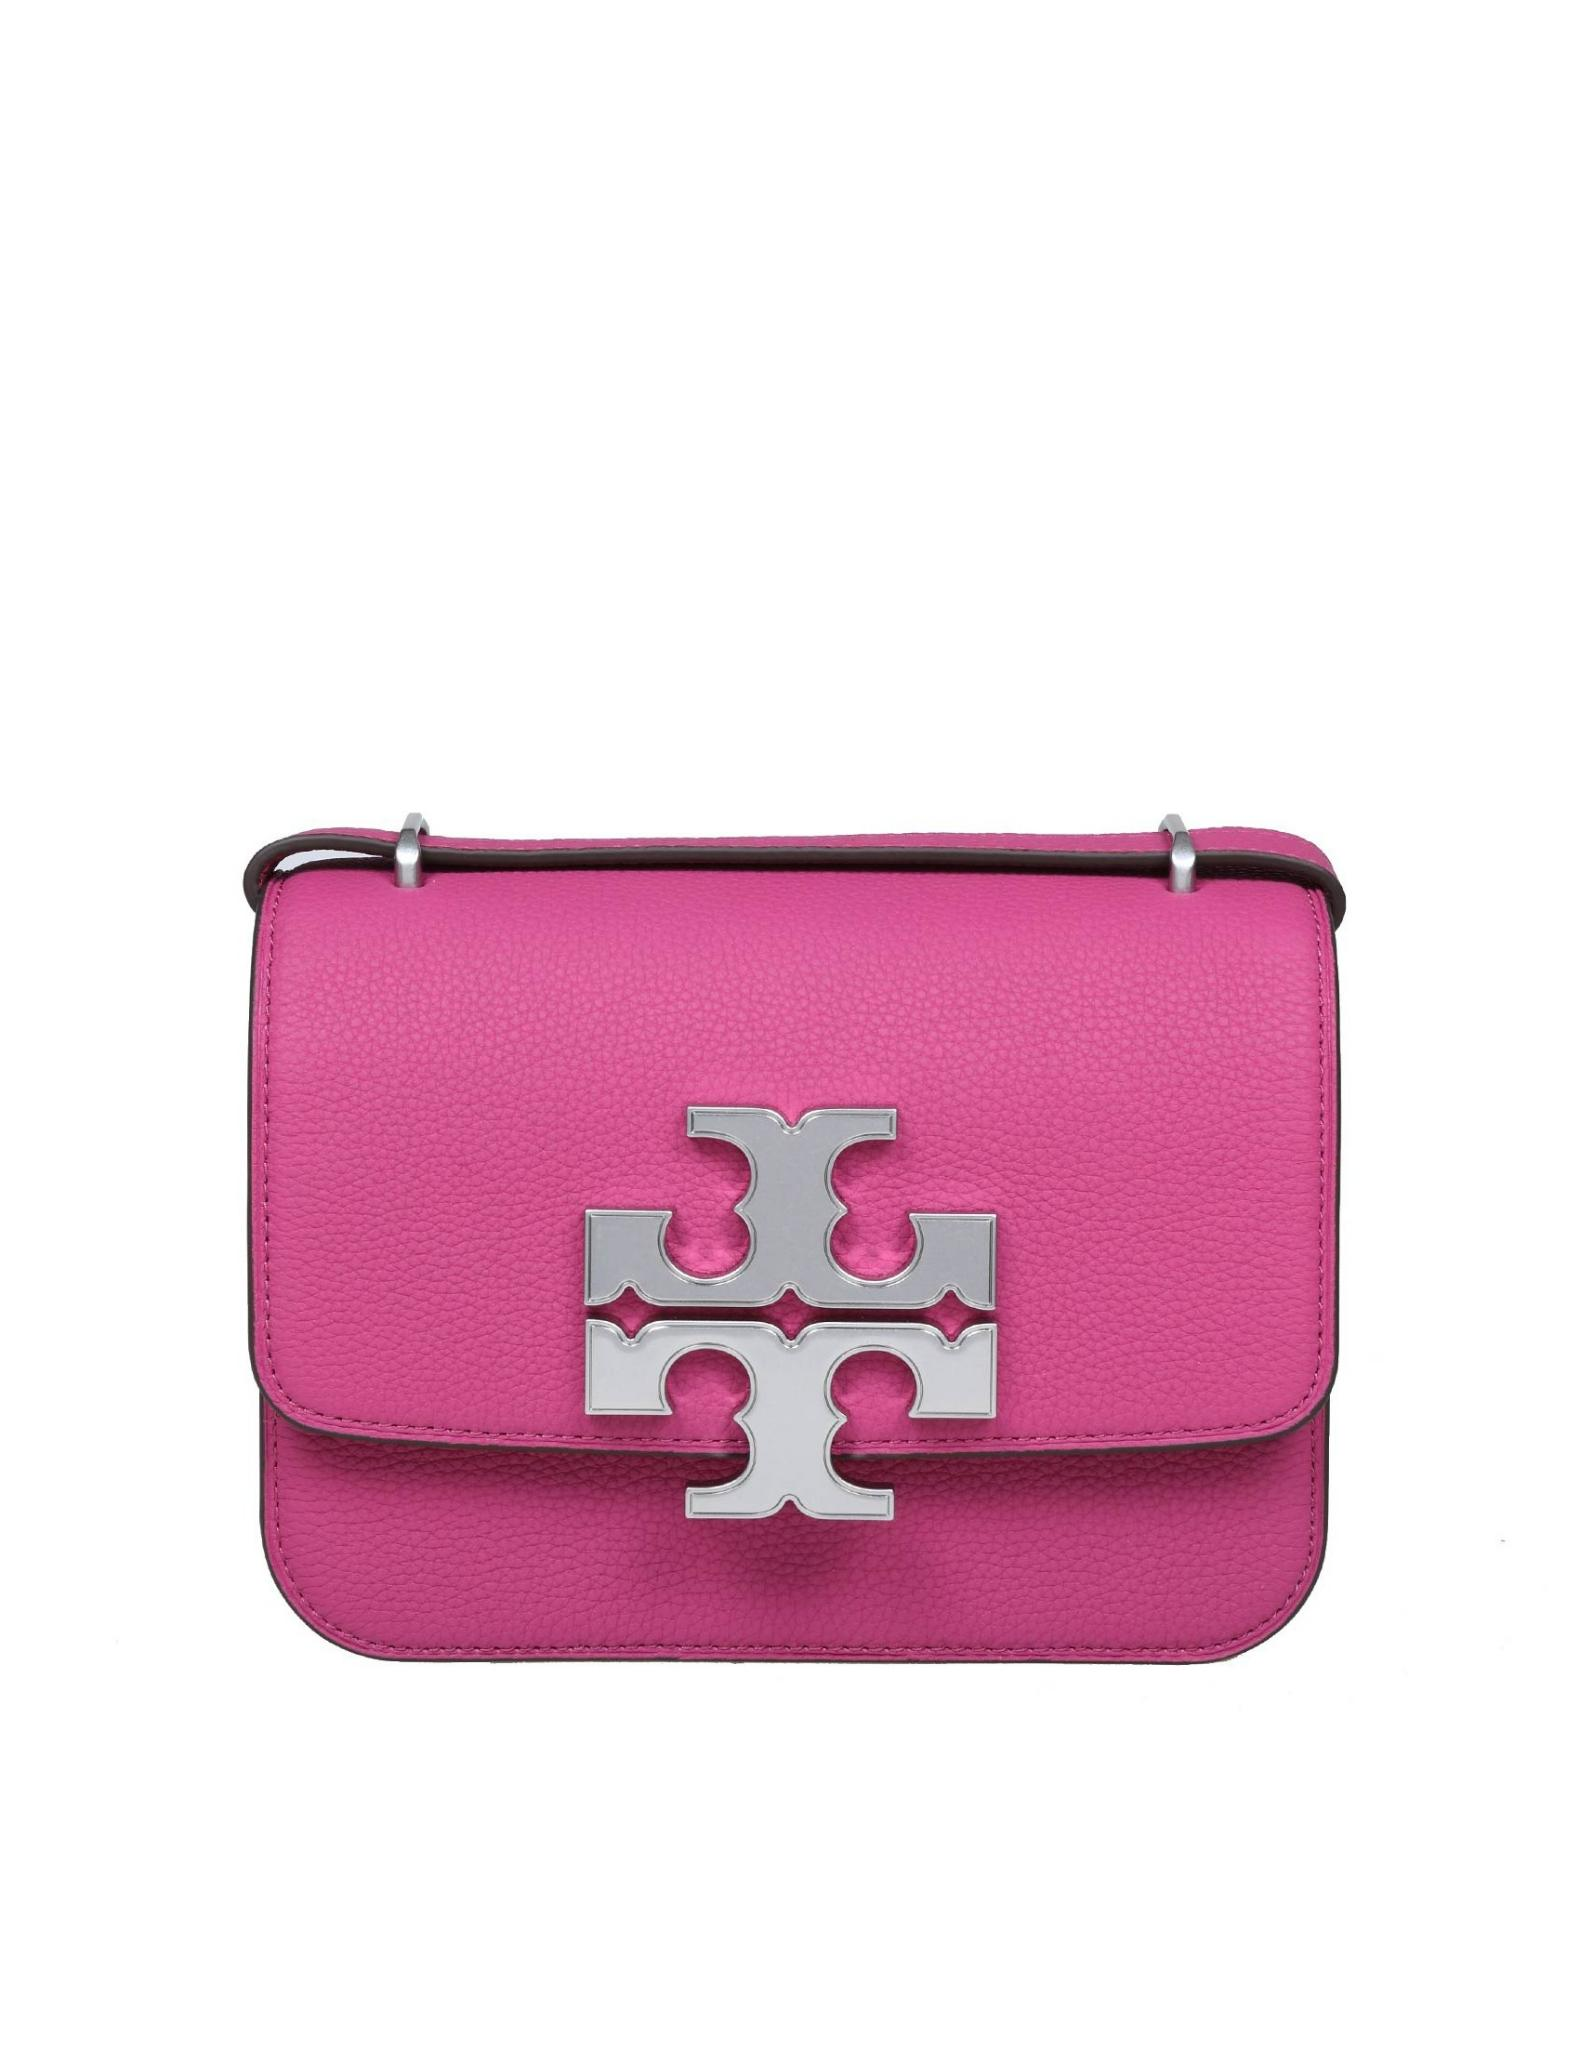TORY-BURCH: (589, 1105, 997, 1520)
